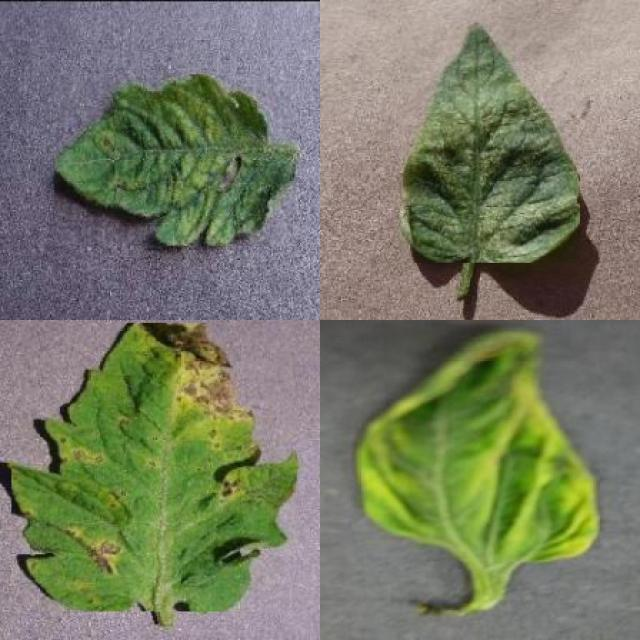Mosaic Virus: (55, 75, 298, 245)
Septoria: (12, 323, 298, 611)
Spider Mites: (399, 21, 580, 262)
Yellow Leaf Curl Virus: (354, 328, 600, 562)
